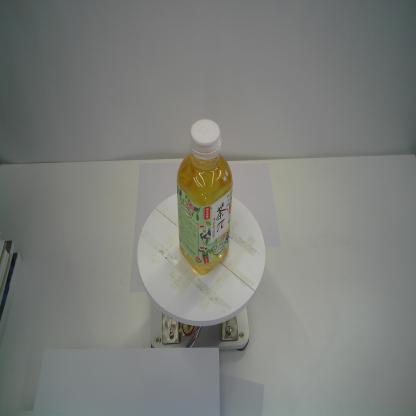Drink: (176, 119, 234, 276)
